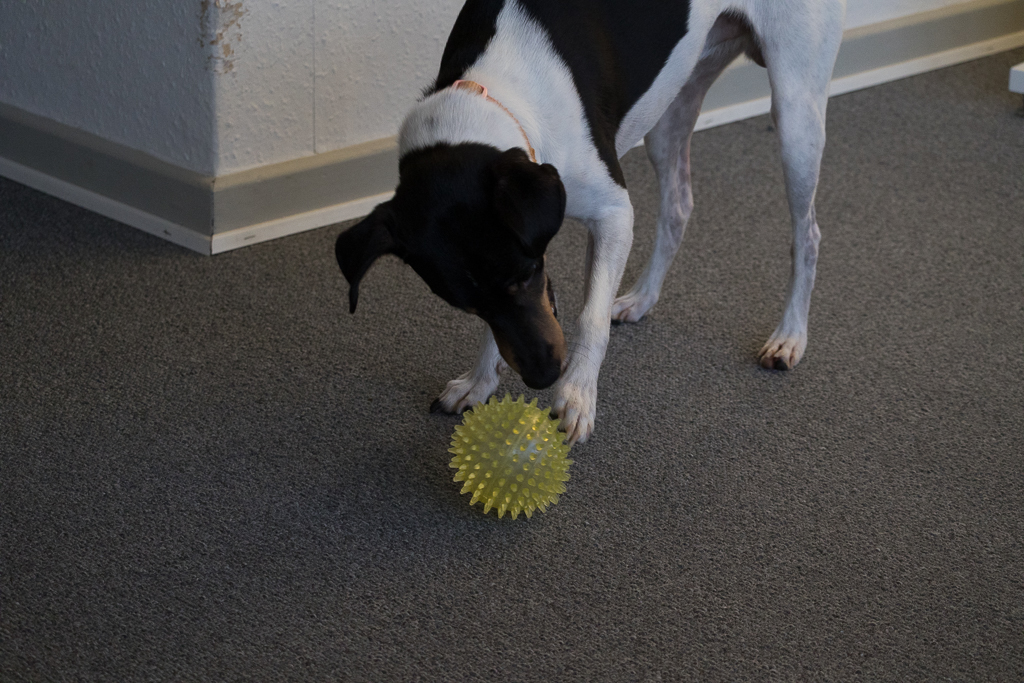Dog: (330, 0, 868, 465)
